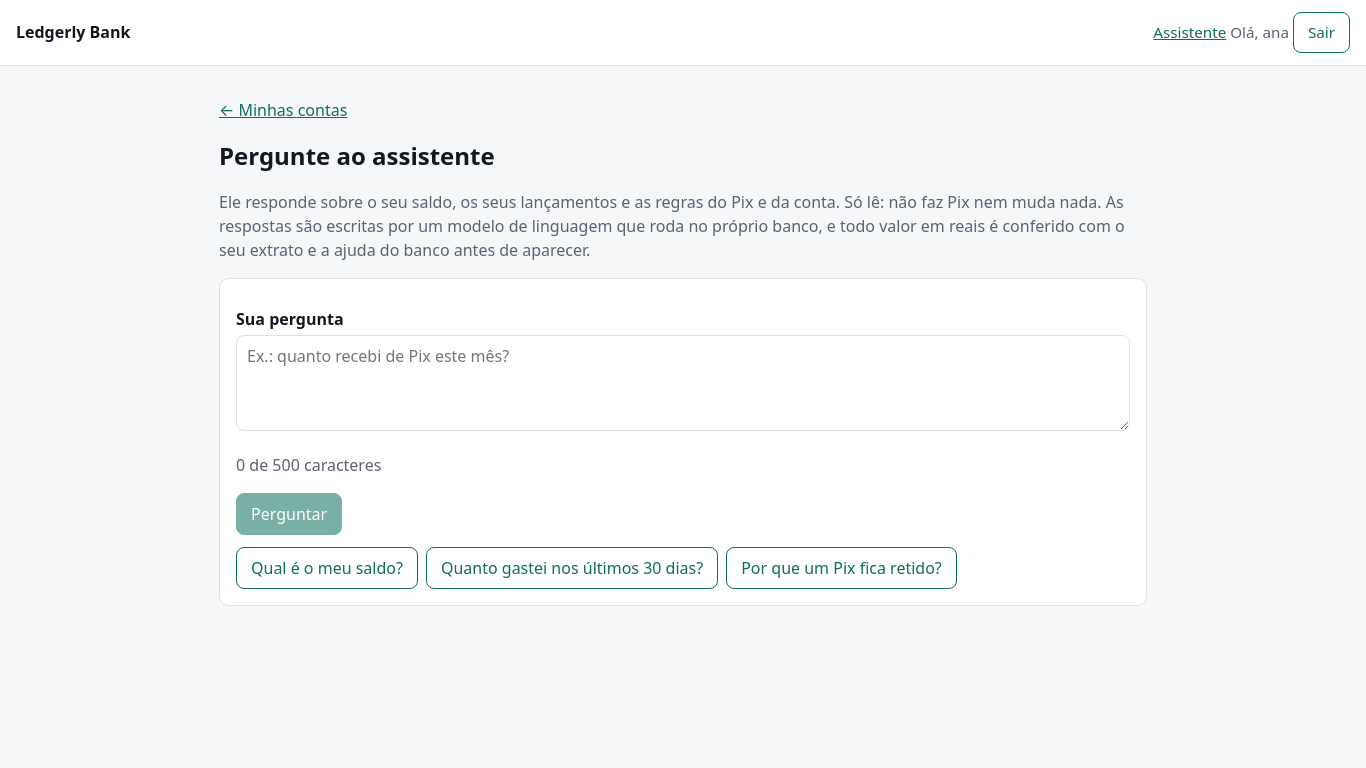
Test: assistente › sugestão vira pergunta; Enter também envia; o histórico fica na tela
Expected: the element named "Sugestões" is shown, left=236, top=547, right=957, bottom=589
Click the button "Qual é o meu saldo?" at (327, 568), box left=236, top=547, right=418, bottom=589
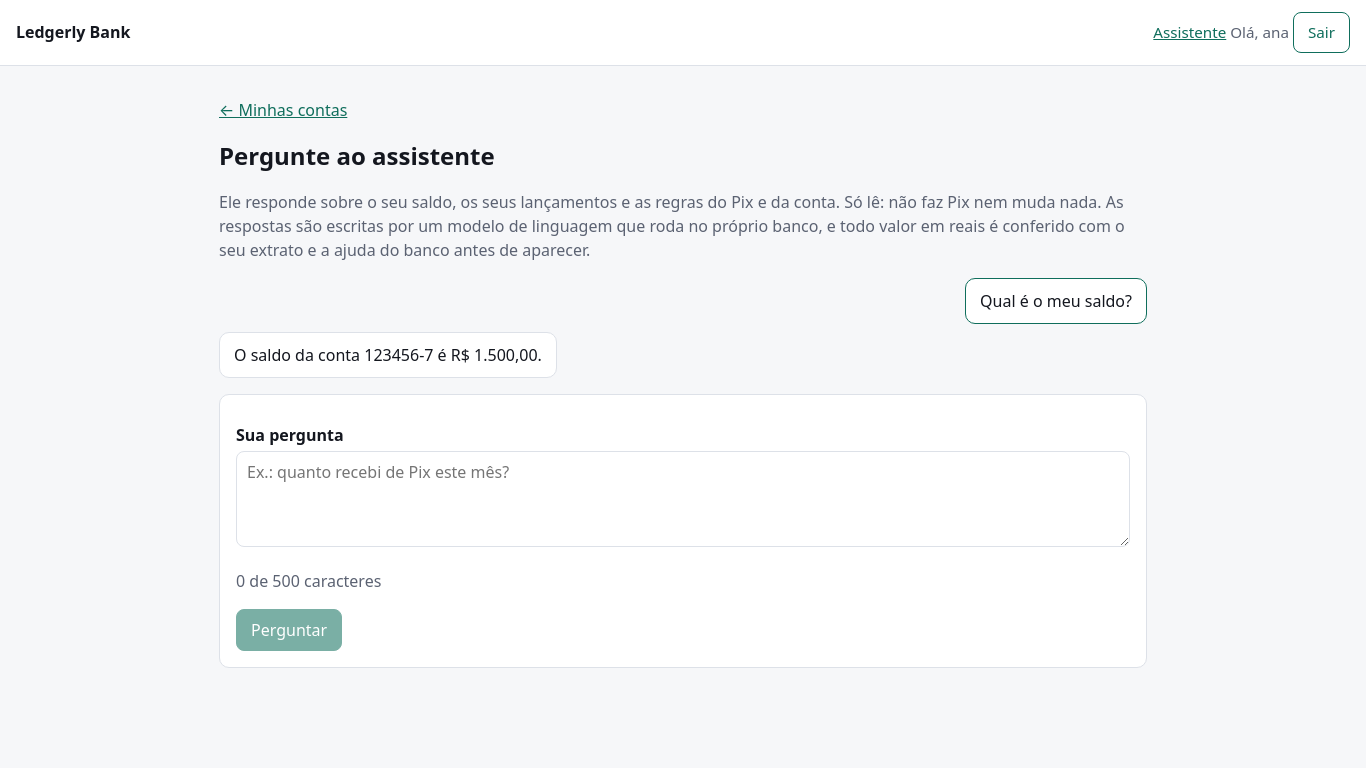
Result: the text "O saldo da conta 123456-7 é R$ 1.500,00." is shown at left=219, top=332, right=557, bottom=378
Result: the element "Sugestões" is gone
Type "quanto gastei?" into the text box labelled "Sua pergunta" at (683, 499), box left=236, top=451, right=1130, bottom=547
Then press Enter
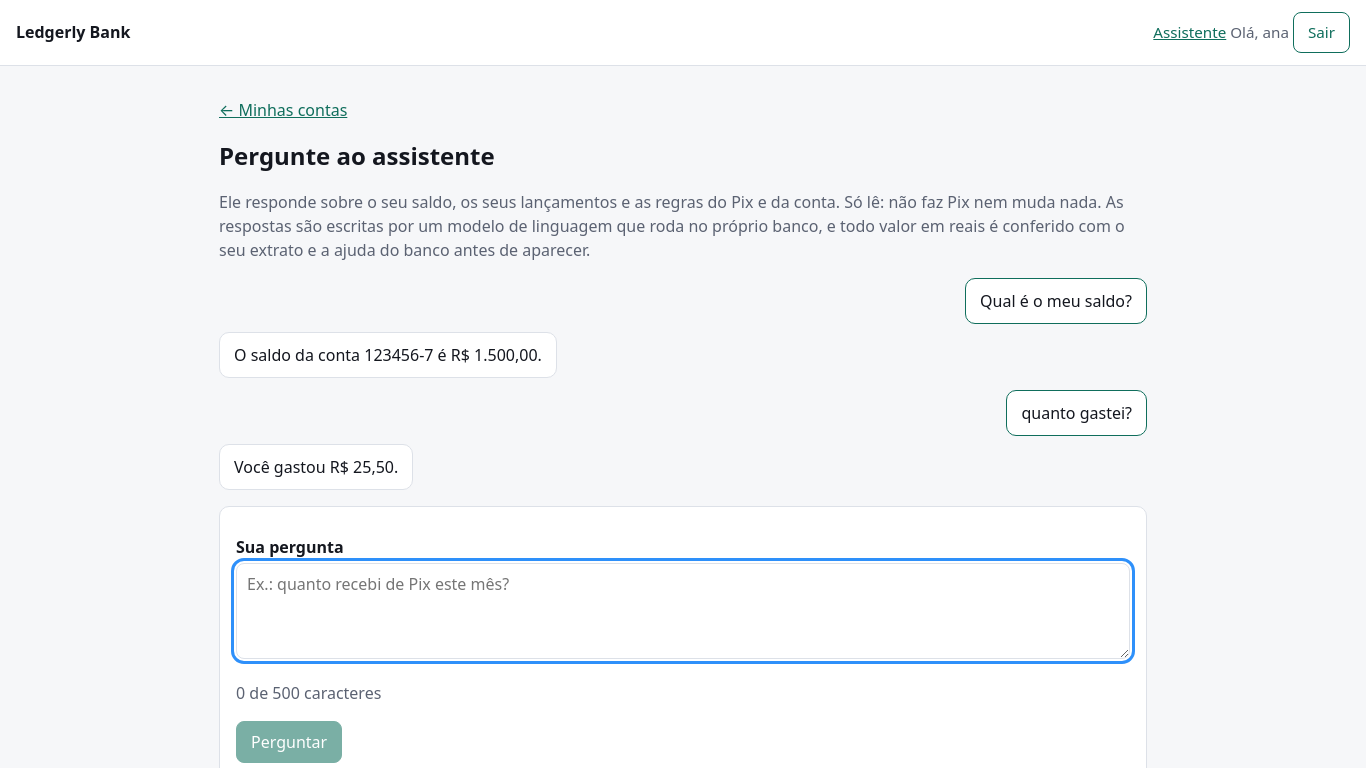
Result: the text "Você gastou R$ 25,50." is shown at left=219, top=444, right=413, bottom=490
Result: the number of elements named "Resposta do assistente" is 2 at left=219, top=332, right=557, bottom=378; left=219, top=444, right=413, bottom=490
